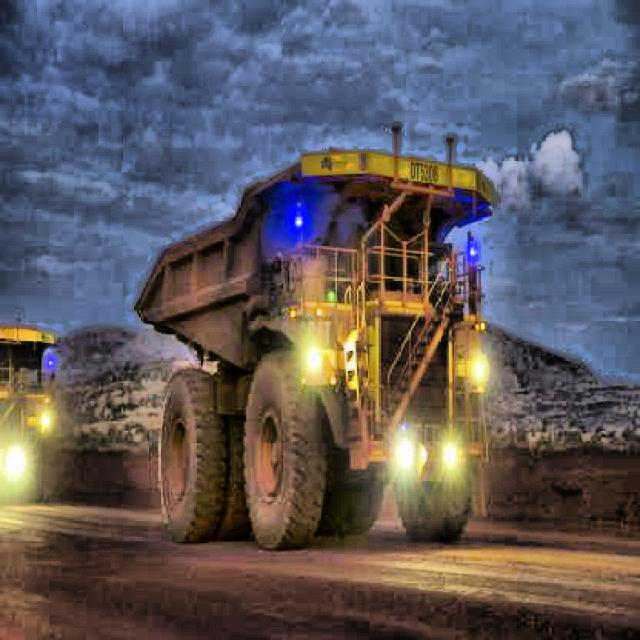dump_truck: (140, 128, 490, 550), (6, 315, 62, 517)
